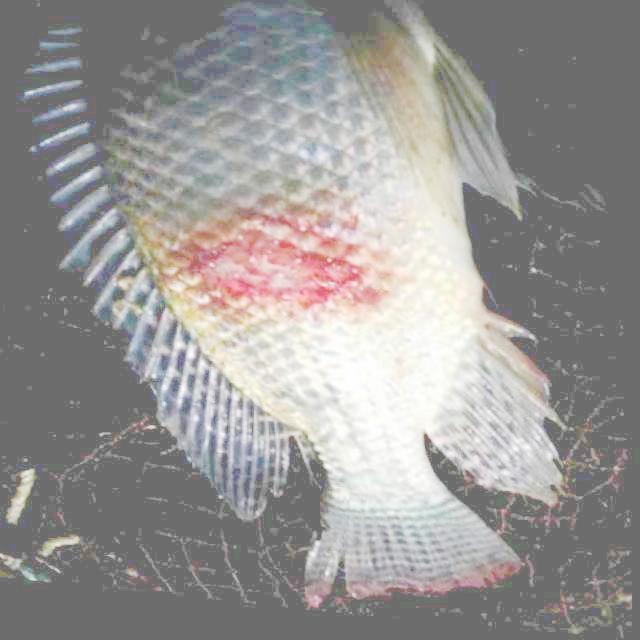Tilapia Lake Virus -TiLV-: (50, 0, 561, 606)
